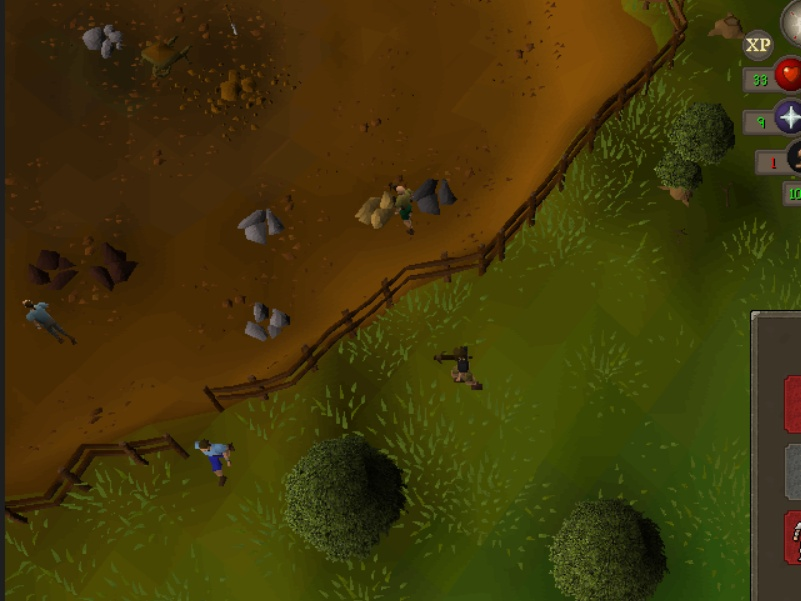clay: (346, 182, 401, 237)
iron: (87, 237, 142, 292), (25, 243, 80, 291)
tin: (233, 199, 288, 254), (239, 290, 294, 345)
